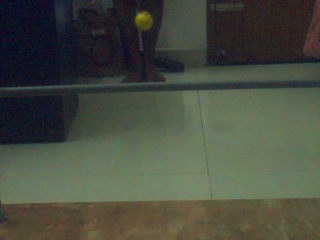ball: (135, 11, 153, 31)
